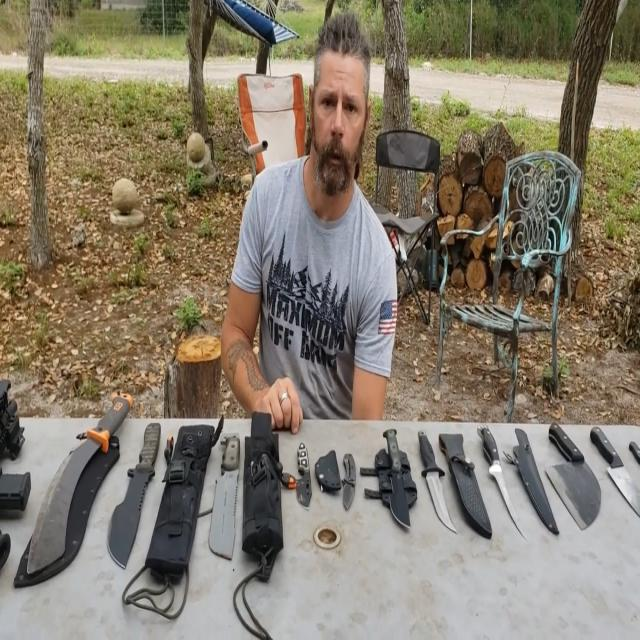knife: (24, 367, 135, 582), (106, 420, 160, 568), (208, 428, 244, 570), (299, 420, 310, 512)
